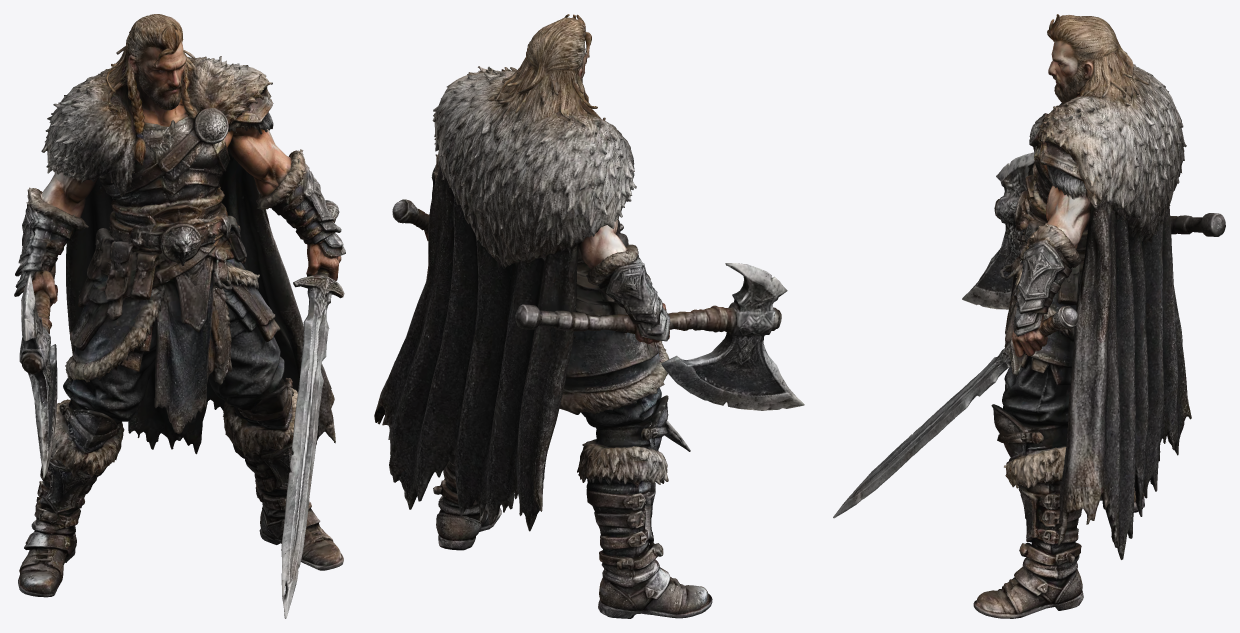
3 views of the same model, side by side, from view 1: azimuth 30°, elevation 25°; view 2: azimuth 150°, elevation 25°; view 3: azimuth 270°, elevation 25° (orthographic). The views are drawn at different scales.
Visible parts, largest first — view 1: tripo_node_80d560e8-3139-40c0-9e08-63cb966614f8; view 2: tripo_node_80d560e8-3139-40c0-9e08-63cb966614f8; view 3: tripo_node_80d560e8-3139-40c0-9e08-63cb966614f8.
Boxes of the visible parts, x1,y1,x2,y2 form: tripo_node_80d560e8-3139-40c0-9e08-63cb966614f8: (14, 14, 345, 618); tripo_node_80d560e8-3139-40c0-9e08-63cb966614f8: (374, 14, 804, 618); tripo_node_80d560e8-3139-40c0-9e08-63cb966614f8: (833, 14, 1225, 618).
Bounding box in the file's own units: 0.6656 × 0.9802 × 0.6513.
Materials: 1 (1 with a texture image).
